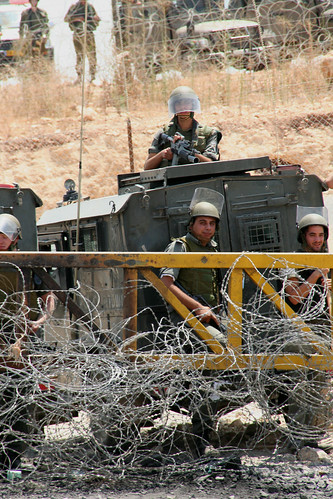barbed wire: (7, 291, 333, 490)
soldier: (163, 193, 226, 316), (153, 93, 215, 161), (294, 222, 333, 328), (20, 1, 57, 75), (64, 1, 102, 73)
weapon: (148, 130, 201, 174)
